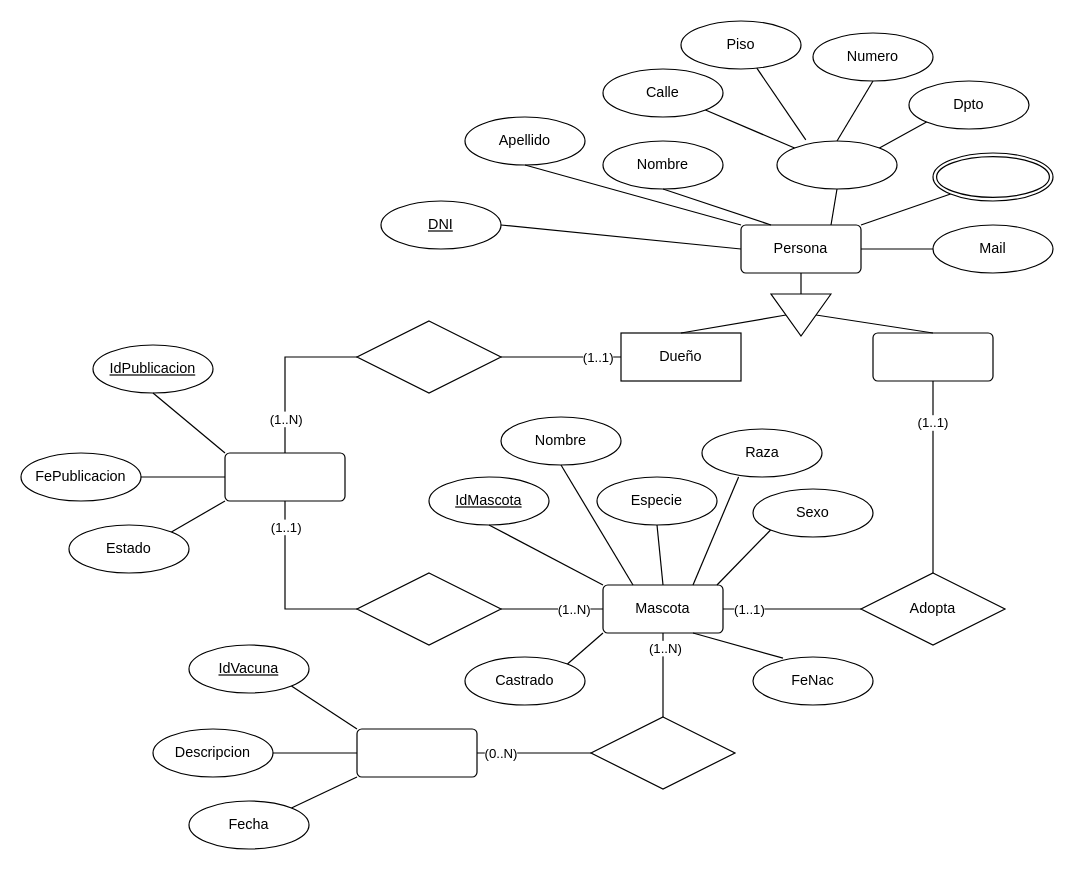
This 1074x870 diagram has some shape labels left out. Here are the shapes that lost their labels. From the top down, the centre of each, then its label:
point 836,164: Direccion
point 992,176: Telefono
point 428,356: Realiza
point 932,356: Adoptante
point 284,476: Publicacion
point 428,608: Tiene
point 416,752: Vacuna
point 662,752: Posee
